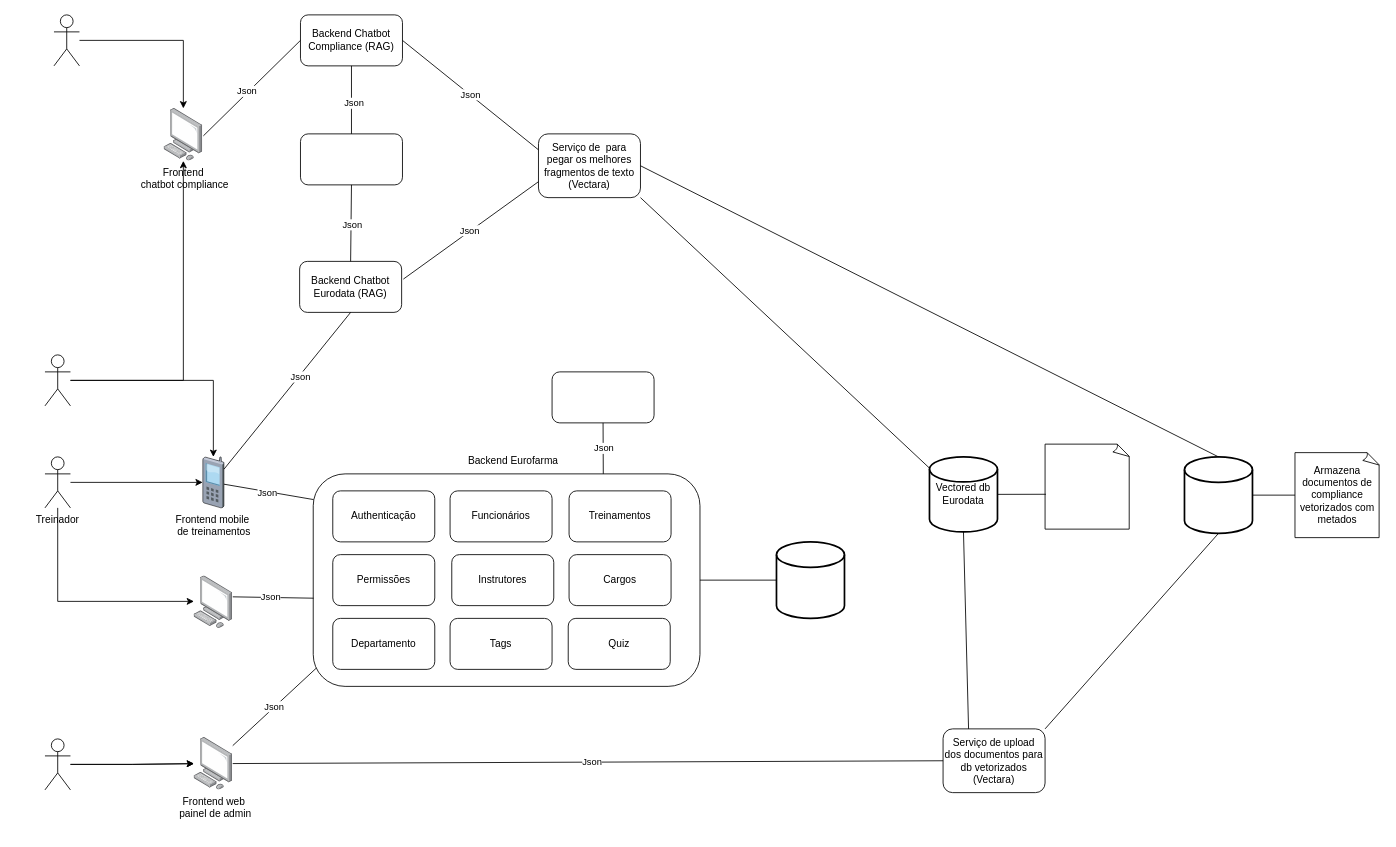
Image size: 1396x847. Some labels were removed from this diagram. The shapes that lost their labels are listed below. From the top down, each one's centre as x and y in pixels, then its label:
At (x=66, y=40): "Colaborador Externo".
At (x=351, y=159): "Servidor de IA / Serviço de IA".
At (x=57, y=380): "Funcionário da Eurofarma".
At (x=602, y=397): "Serviço de sms".
At (x=1087, y=486): "Armazena documentos da Eurofarma vetorizados com metados".
At (x=1218, y=495): "Vectored db Compliance".
At (x=810, y=580): "Db backend eurofarma".
At (x=213, y=601): "Frontend web de treinamentos".
At (x=57, y=764): "Coloborador admin".
